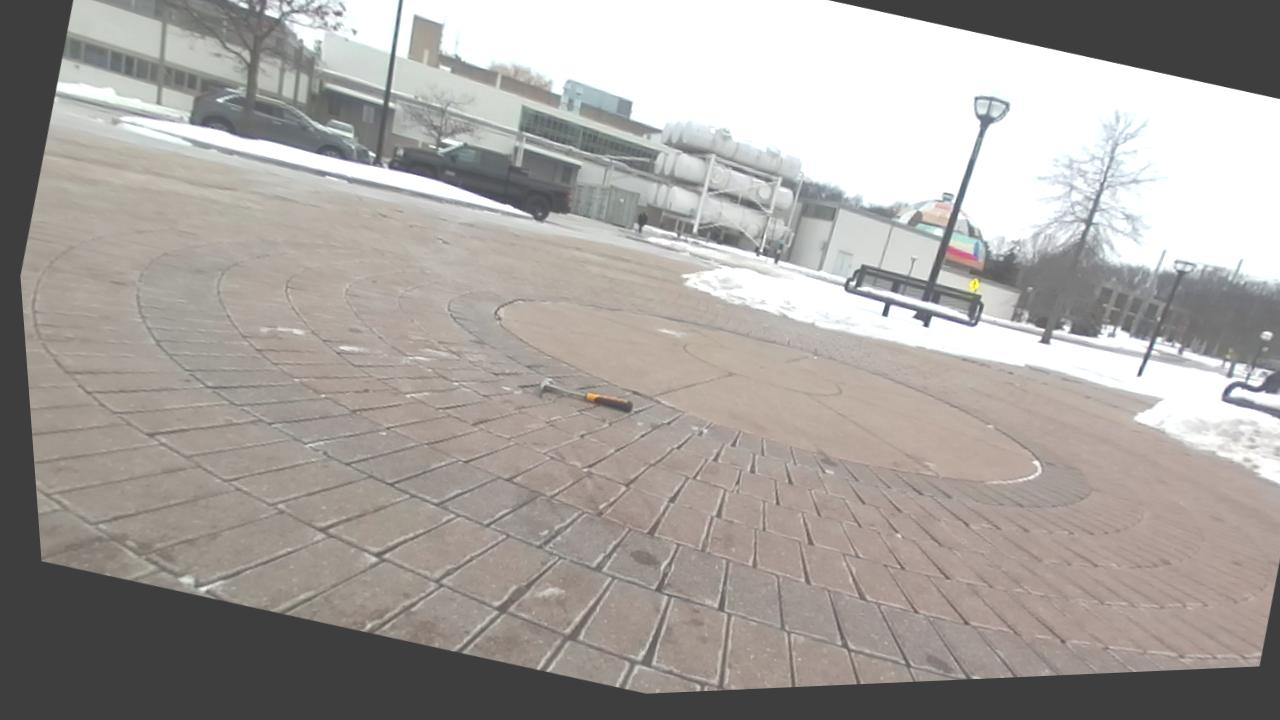pick: (538, 378, 632, 413)
